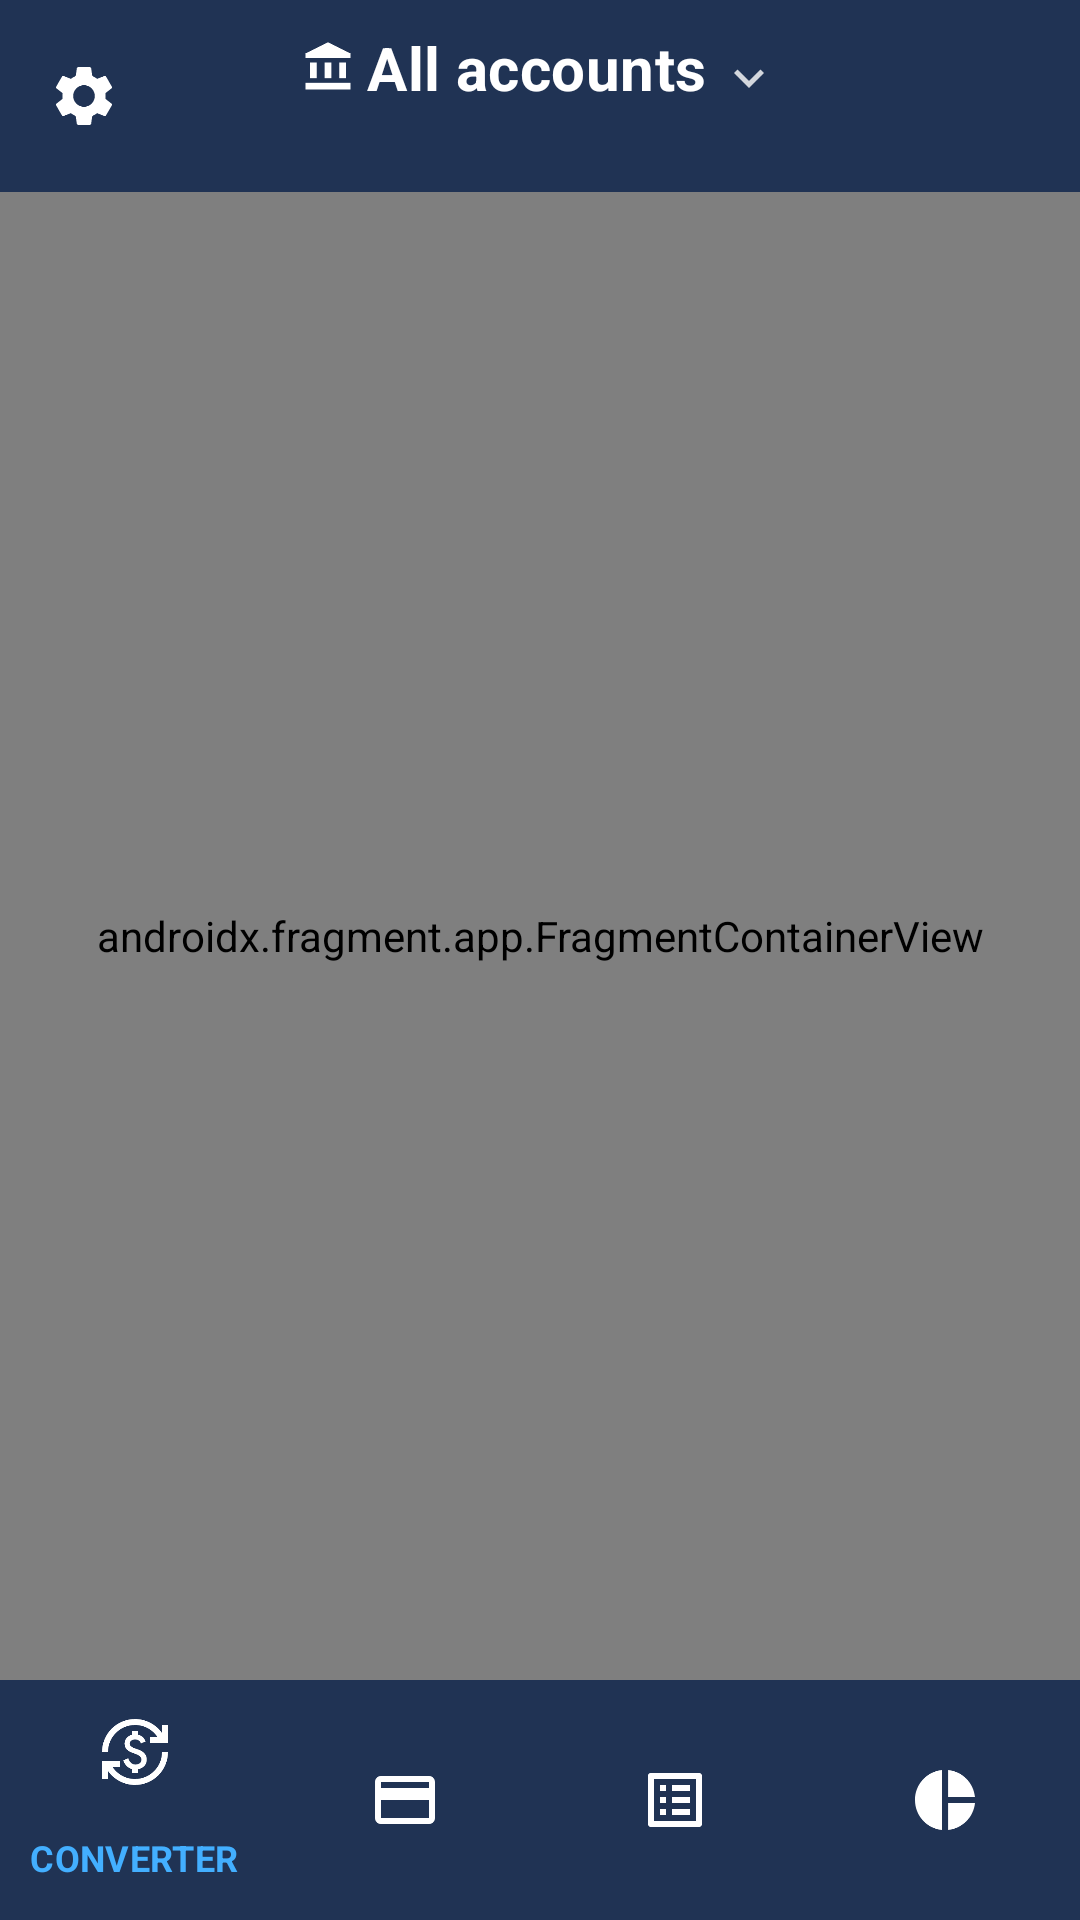

Screen size 1080×1920. Icon name, then its center in pixels as (x,y):
bank: (328,66)
Settings: (84,96)
